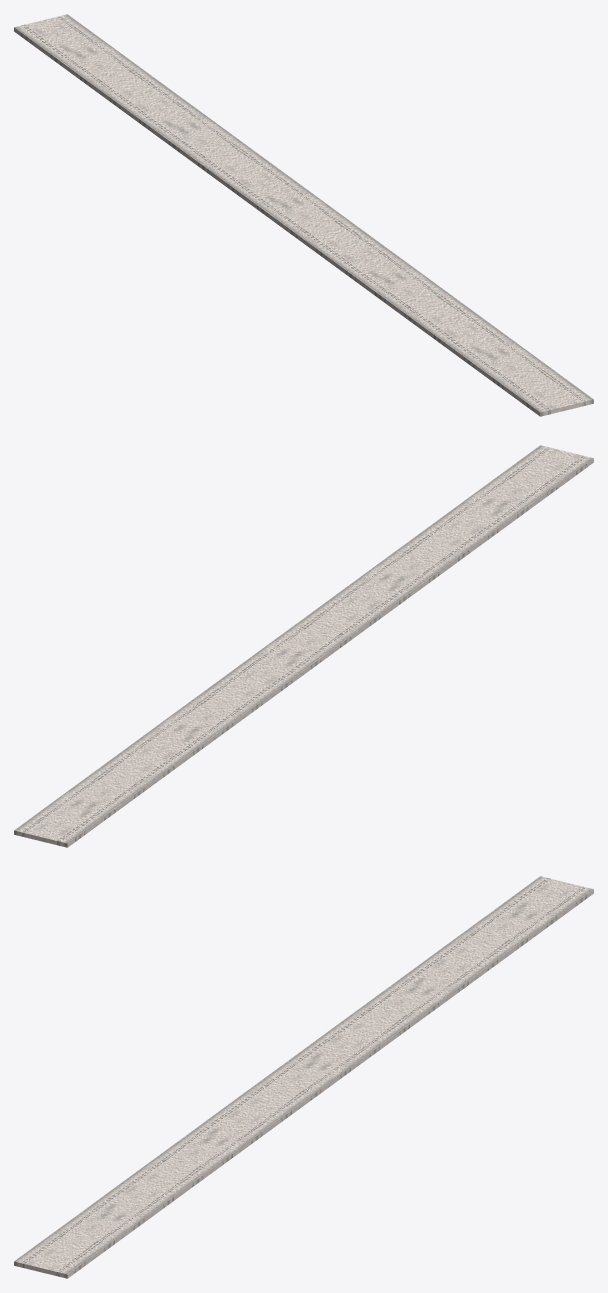
The model's file is DRoad4.glb.
The picture shows the model from 3 angles, top to bottom: view 1: azimuth 30°, elevation 25°; view 2: azimuth 150°, elevation 25°; view 3: azimuth 330°, elevation 25°; orthographic projection.
Parts seen in each view (by area): view 1: DRoad4; view 2: DRoad4; view 3: DRoad4.
Boxes of the visible parts, box(x1,y1,x2,y2) form: DRoad4: box(14, 14, 593, 416); DRoad4: box(14, 445, 593, 847); DRoad4: box(14, 876, 593, 1278).
Size of the model in its own units: 578 by 44 by 9824.
1 material, 1 textured.
